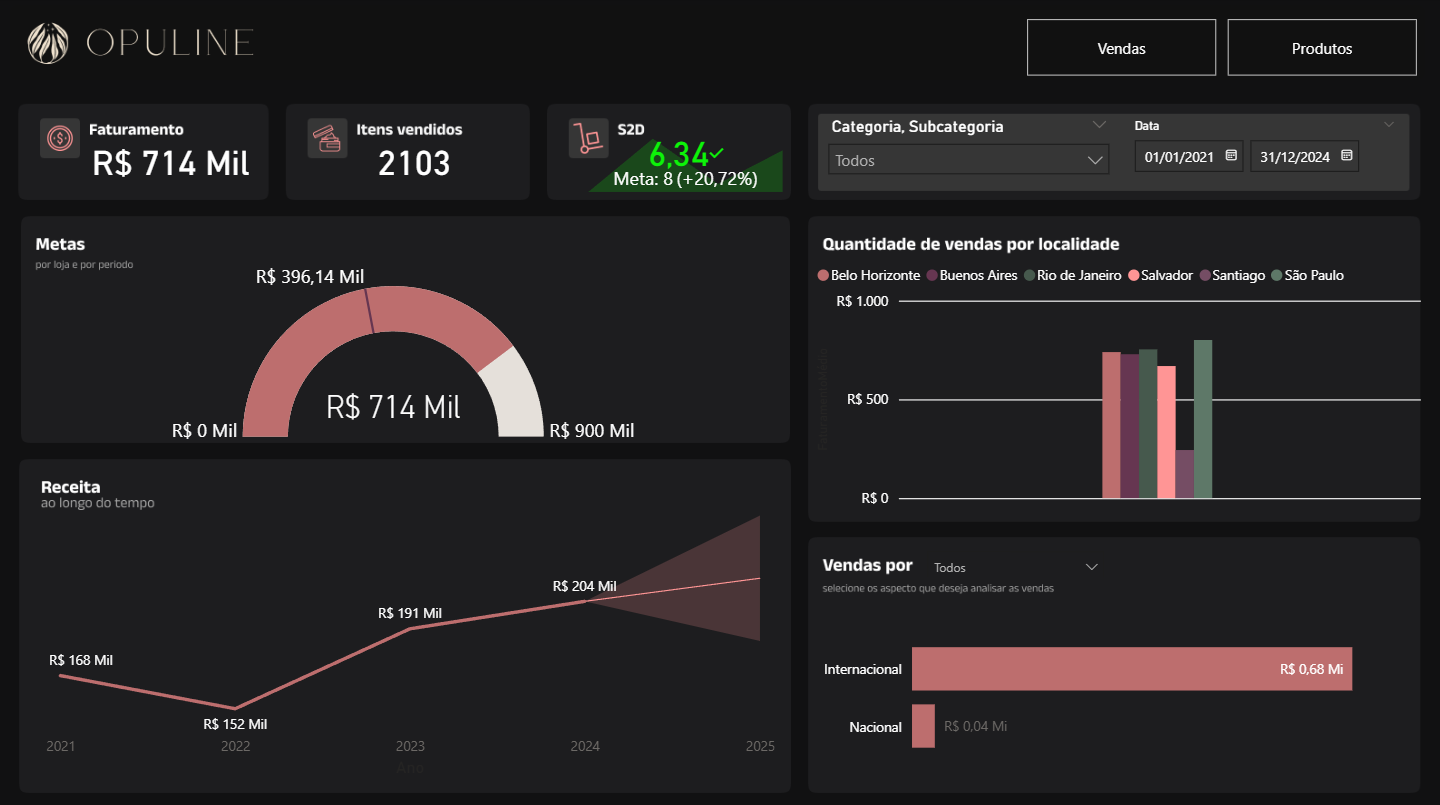

Layout of this report page (visuals, bound fields, positions):
{"tool":"powerbi","page":{"name":"Vendas","canvas":[1280,720],"ordinal":8},"visuals":[{"type":"card","fields":{"Values":["_Medidas.Faturamento"]},"box":[70.6,85.7,174.4,115.9],"z":0},{"type":"card","fields":{"Values":["_Medidas.Quantidade"]},"box":[285.2,89.7,175.4,107.8],"z":1},{"type":"kpi","fields":{"Goal":["_Medidas.MetaS2Door"],"Indicator":["Avg(fPedidos.ship_to_door)"],"TrendLine":["Calendario.Date.Variation.Hierarquia de datas.Ano"]},"box":[520.1,118.9,182.4,57.4],"z":2},{"type":"gauge","fields":{"TargetValue":["Sum(dMetaMensal.Meta)"],"Y":["_Medidas.Faturamento"]},"box":[40.3,220.7,644,176.4],"z":3},{"type":"lineChart","fields":{"Category":["Calendario.Date.Variation.Hierarquia de datas.Ano","Calendario.Date.Variation.Hierarquia de datas.Trimestre","Calendario.Date.Variation.Hierarquia de datas.Mês","Calendario.Date.Variation.Hierarquia de datas.Dia"],"Y":["_Medidas.Faturamento"]},"box":[42.3,416.3,653.1,275.1],"z":4},{"type":"slicer","fields":{"Values":["dCategoriasProdutos.Categoria Hierarquia.Categoria","dCategoriasProdutos.Categoria Hierarquia.Subcategoria"]},"box":[727.7,100.8,268.1,67.5],"z":5},{"type":"slicer","fields":{"Values":["Calendario.Date"]},"box":[994.8,101.8,255,70.6],"z":6},{"type":"clusteredBarChart","fields":{"Category":["dMarcas.Origem","dMarcas.Marca","dProdutosFinais.Categoria"],"Y":["_Medidas.Faturamento"]},"box":[721.6,514,528.1,199.6],"z":7},{"type":"slicer","fields":{"Values":["Comparacao Categorias .Comparacao Categorias "]},"box":[815.4,477.7,176.4,33.3],"z":8},{"type":"pageNavigator","box":[913.1,18.1,345.7,50.4],"z":9},{"type":"clusteredColumnChart","fields":{"Series":["fPedidos.Cidade"],"Y":["_Medidas.FaturamentoMédio"]},"box":[722.5,224.9,543.4,230.2],"z":10}]}

Visuals, with their boxes in screenshot pixels (x1, y1, x2, y2), scaled from the page's 1280x720 canvas onto the 1440x805 screenshot:
card - _Medidas.Faturamento: BBox(79, 96, 276, 225)
card - _Medidas.Quantidade: BBox(321, 100, 518, 221)
kpi - _Medidas.MetaS2Door x Avg(fPedidos.ship_to_door): BBox(585, 133, 790, 197)
gauge - Sum(dMetaMensal.Meta) x _Medidas.Faturamento: BBox(45, 247, 770, 444)
lineChart - Calendario.Date.Variation.Hierarquia de datas.Ano x Calendario.Date.Variation.Hierarquia de datas.Trimestre: BBox(48, 465, 782, 773)
slicer - dCategoriasProdutos.Categoria Hierarquia.Categoria x dCategoriasProdutos.Categoria Hierarquia.Subcategoria: BBox(819, 113, 1120, 188)
slicer - Calendario.Date: BBox(1119, 114, 1406, 193)
clusteredBarChart - dMarcas.Origem x dMarcas.Marca: BBox(812, 575, 1406, 798)
slicer - Comparacao Categorias .Comparacao Categorias : BBox(917, 534, 1116, 571)
pageNavigator: BBox(1027, 20, 1416, 77)
clusteredColumnChart - fPedidos.Cidade x _Medidas.FaturamentoMédio: BBox(813, 251, 1424, 509)
